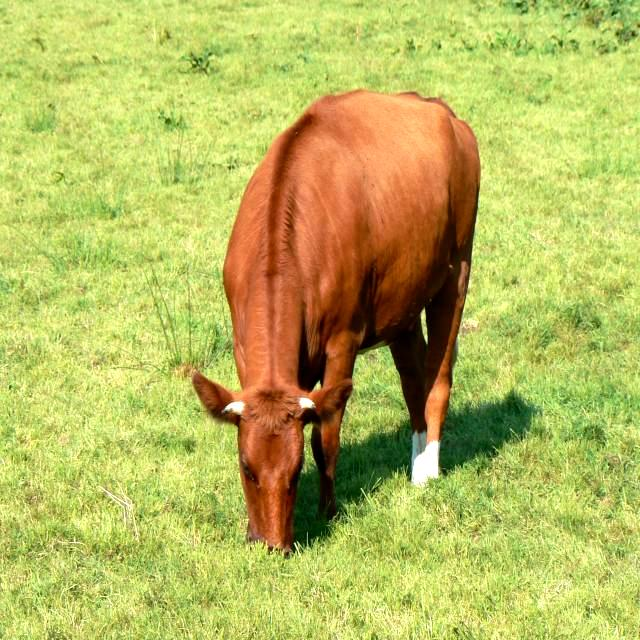COW: (192, 90, 480, 550)
